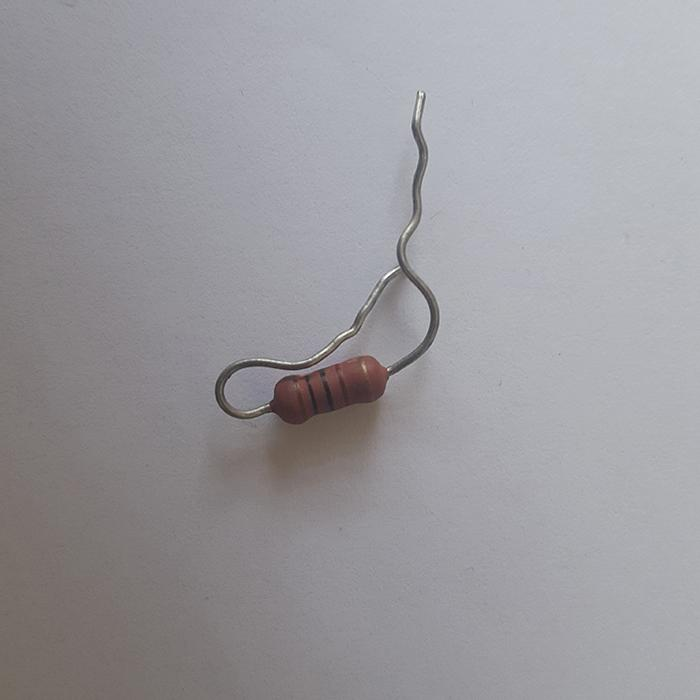resistor: (271, 352, 392, 424)
